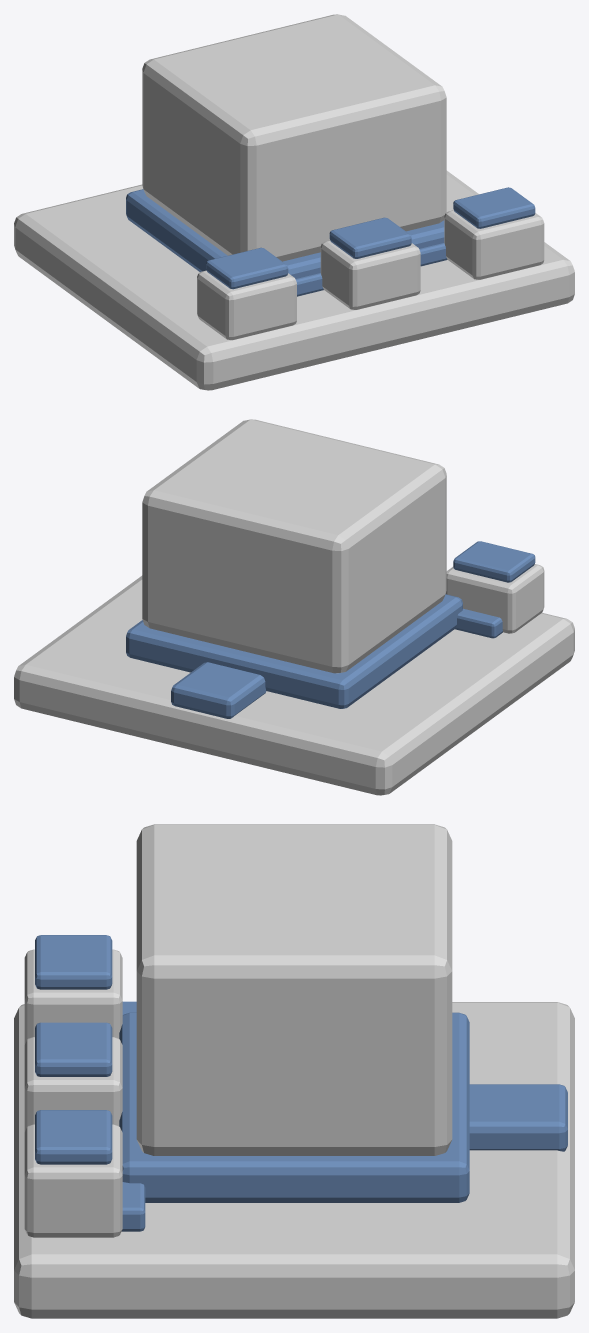
File: load-balancer.glb
3 views of the same model, one above another, from view 1: azimuth 30°, elevation 25°; view 2: azimuth 150°, elevation 25°; view 3: azimuth 270°, elevation 25° (orthographic). The views are drawn at different scales.
Parts seen in each view (by area): view 1: hub, board, output.1, output.2, output.0, hub-base, output-cap.2, output-cap.0, output-cap.1, branch; view 2: hub, board, hub-base, output.0, input, output-cap.0, branch; view 3: hub, board, hub-base, output.2, input, output.0, output.1, output-cap.1, output-cap.0, output-cap.2, branch.
Part boxes in pixels (x1,y1,x2,y2): hub: [142, 14, 446, 261]; board: [14, 170, 574, 390]; output.1: [320, 240, 420, 309]; output.2: [444, 210, 544, 279]; output.0: [197, 270, 296, 340]; hub-base: [126, 189, 444, 278]; output-cap.2: [453, 187, 535, 228]; output-cap.0: [206, 247, 288, 289]; output-cap.1: [329, 217, 411, 258]; branch: [295, 243, 447, 296]; hub: [142, 419, 446, 673]; board: [14, 575, 574, 795]; hub-base: [126, 594, 462, 708]; output.0: [445, 564, 544, 633]; input: [171, 662, 266, 718]; output-cap.0: [453, 541, 535, 582]; branch: [455, 608, 502, 638]; hub: [136, 824, 452, 1155]; board: [14, 1002, 574, 1318]; hub-base: [119, 1012, 469, 1202]; output.2: [24, 1124, 122, 1237]; input: [469, 1084, 567, 1151]; output.0: [24, 949, 122, 1044]; output.1: [24, 1037, 122, 1131]; output-cap.1: [35, 1022, 112, 1076]; output-cap.0: [35, 935, 112, 989]; output-cap.2: [35, 1110, 112, 1164]; branch: [121, 1001, 145, 1231].
Size of the model in its own units: 1.8 by 0.95 by 1.6.
